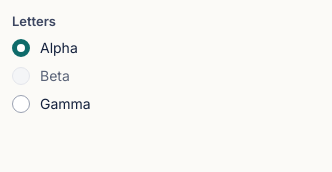
Test case: RadioGroup › selects on click
Click the text "Gamma".
click(65, 104)  # box [40,94,91,114]
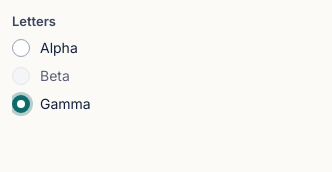
Expected: the radio button labelled "Gamma" is checked, [12,94,91,112]
